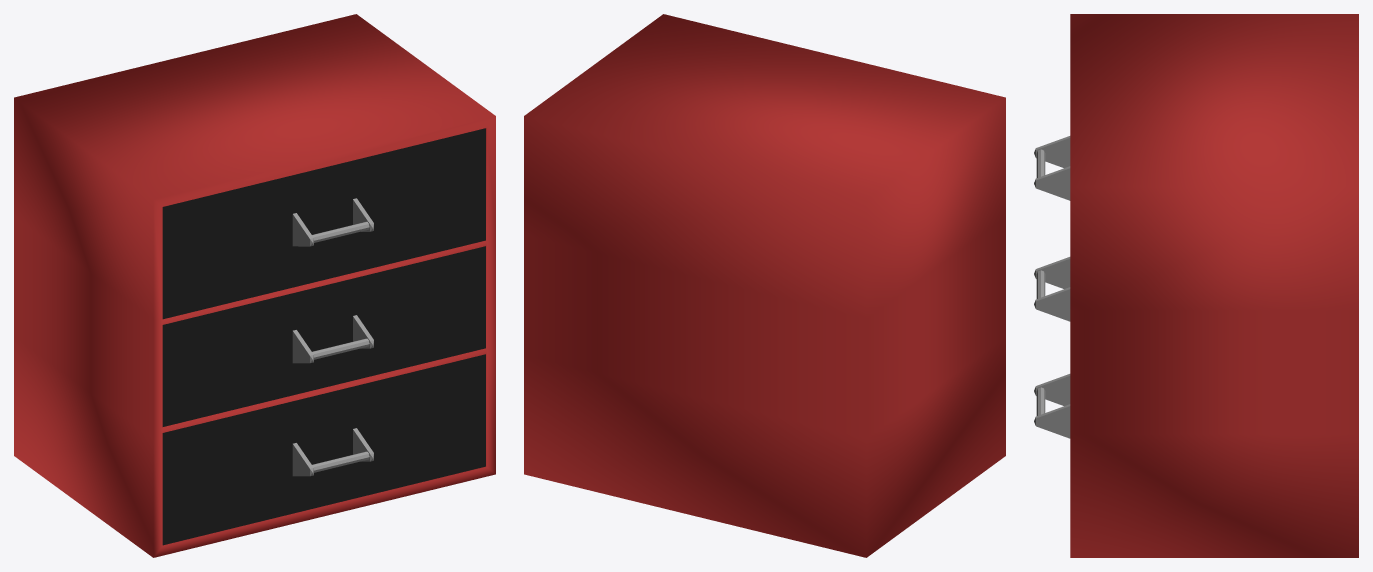
Rendered from cabinet_V2.fbx.
3 renders of one model, left to right at view 1: azimuth 30°, elevation 25°; view 2: azimuth 150°, elevation 25°; view 3: azimuth 270°, elevation 25°, orthographic. The views are drawn at different scales.
Parts seen in each view (by area): view 1: Cabinet, Shelves.002, Shelves, Shelves.001; view 2: Cabinet; view 3: Cabinet, Shelves.001, Shelves, Shelves.002.
Boxes of the visible parts, x1=… form: Cabinet: x1=14, y1=14, x2=495, y2=557; Shelves.002: x1=162, y1=128, x2=485, y2=319; Shelves: x1=162, y1=357, x2=485, y2=545; Shelves.001: x1=162, y1=246, x2=485, y2=435; Cabinet: x1=524, y1=14, x2=1005, y2=557; Cabinet: x1=1070, y1=14, x2=1358, y2=557; Shelves.001: x1=1034, y1=257, x2=1070, y2=321; Shelves: x1=1034, y1=374, x2=1070, y2=438; Shelves.002: x1=1034, y1=136, x2=1070, y2=200.
Bounding box in the file's own units: 330 × 330 × 262.
